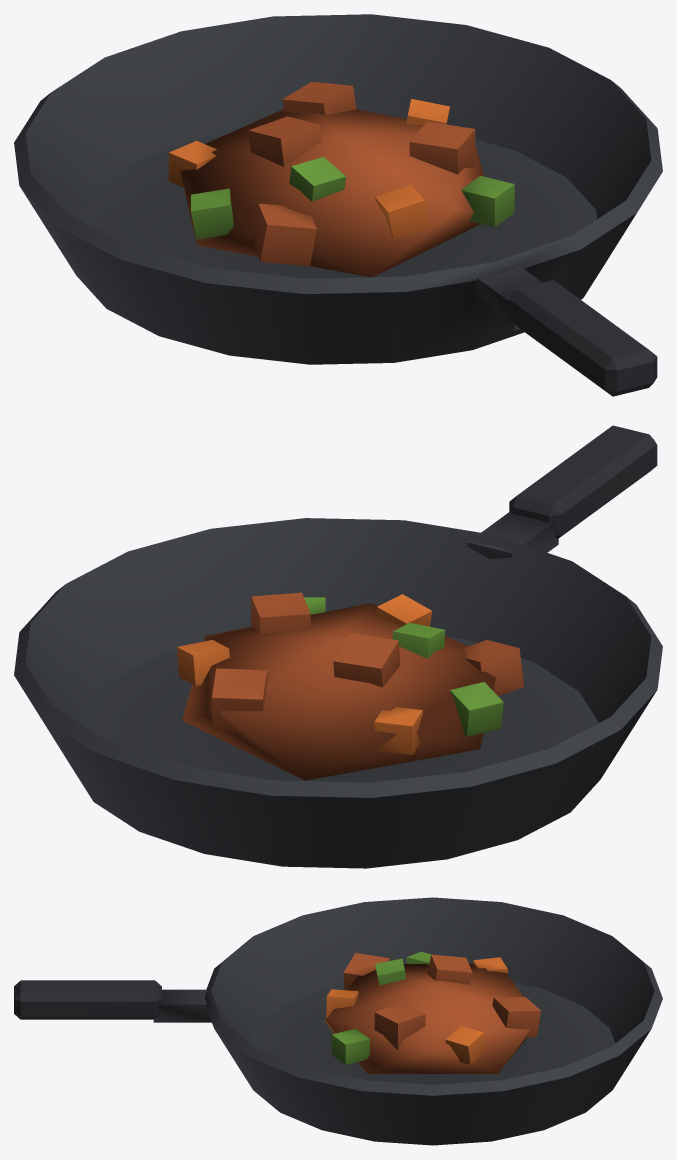
File: pan.glb
The picture shows the model from 3 angles, top to bottom: view 1: azimuth 30°, elevation 25°; view 2: azimuth 150°, elevation 25°; view 3: azimuth 270°, elevation 25°; orthographic projection. The views are drawn at different scales.
Visible parts, largest first — view 1: pan; view 2: pan; view 3: pan.
Boxes of the visible parts, bbox=[...] form: pan: bbox=[14, 14, 662, 396]; pan: bbox=[14, 425, 662, 868]; pan: bbox=[14, 897, 662, 1145].
Bounding box in the file's own units: 0.28 × 0.061 × 0.395.
